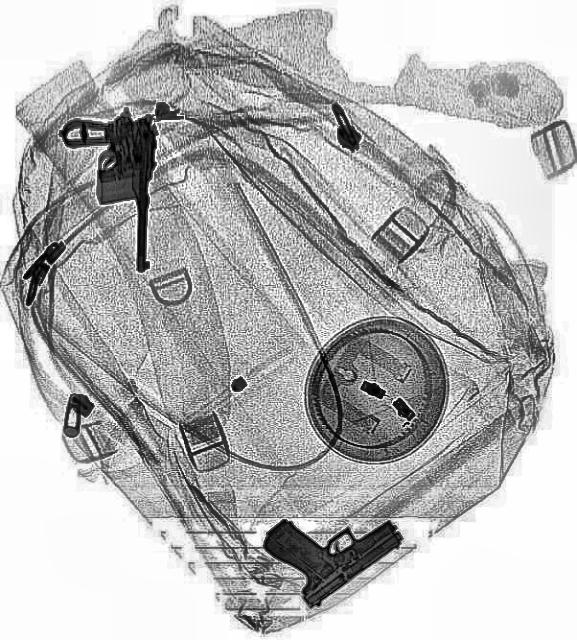Gun: (255, 464, 409, 614), (51, 104, 157, 272)
